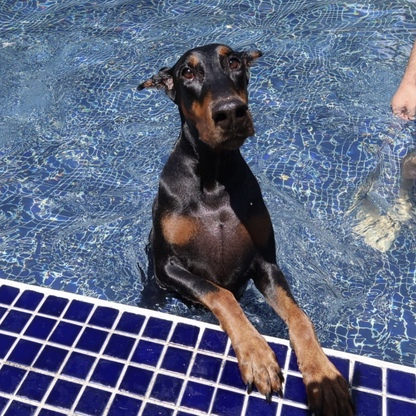doberman: (135, 40, 360, 413)
